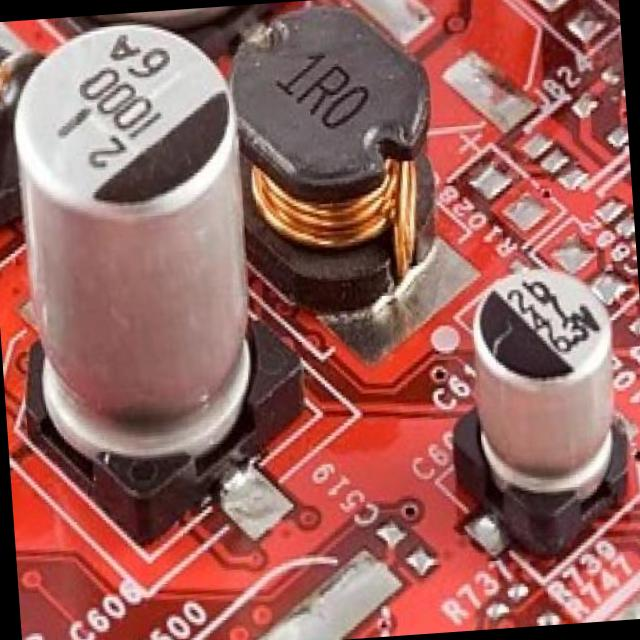capacitor: (6, 7, 270, 515), (454, 255, 634, 548)
